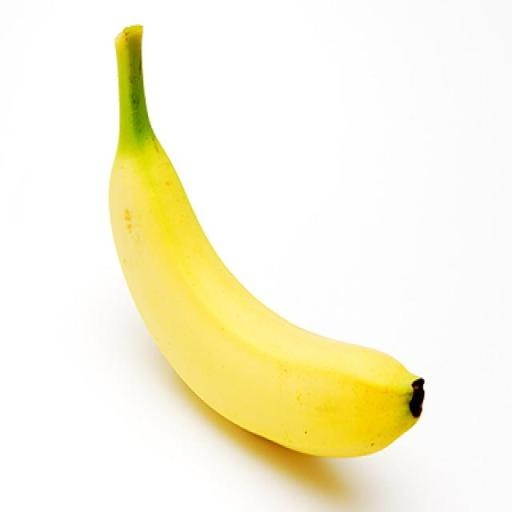fruit: (109, 27, 423, 456)
